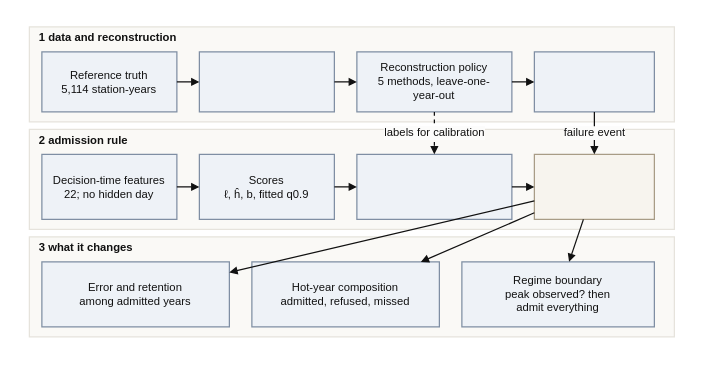
This 703x365 diagram has some shape labels left out. The shapes that lost their labels are listed below. From the top down, each one's centre as x and y in pixels, then its label:
At point 266,81: "Designed outages 53,721 cases".
At point 593,81: "Admitted object error e; fail if e > 0.5 °C".
At point 434,186: "Calibration 5 folds × 3 seeds clustered 5% band".
At point 593,186: "Decision s ≤ τ: admit else abstain".
